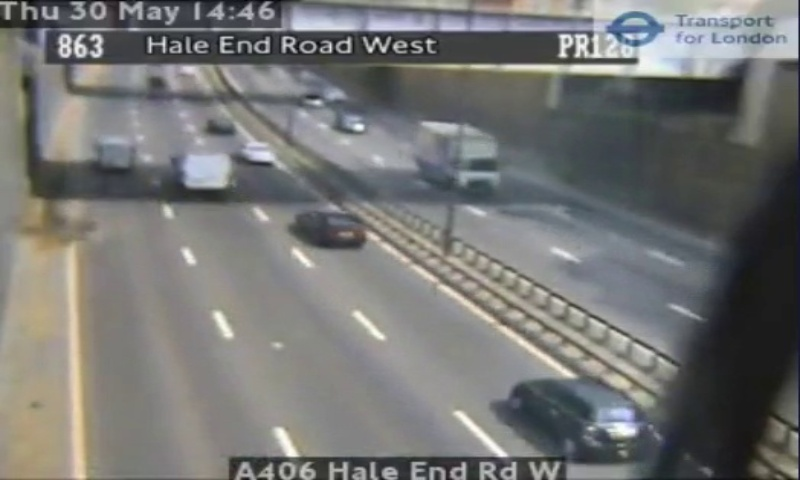car: (511, 379, 653, 457), (294, 210, 363, 244)
van: (175, 152, 232, 187)
